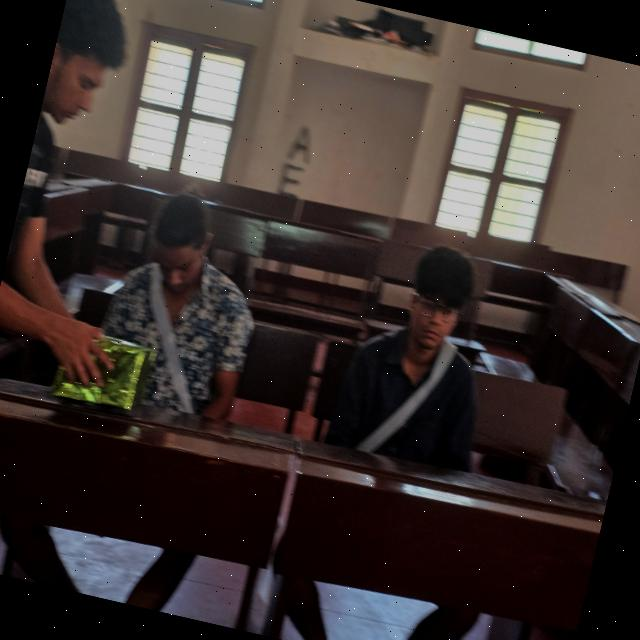seatbelt: (332, 341, 484, 471), (105, 272, 232, 416)
